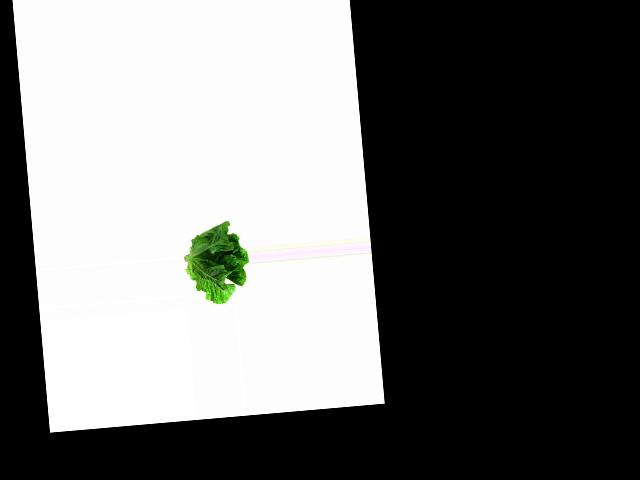lettuce: (184, 218, 251, 305)
